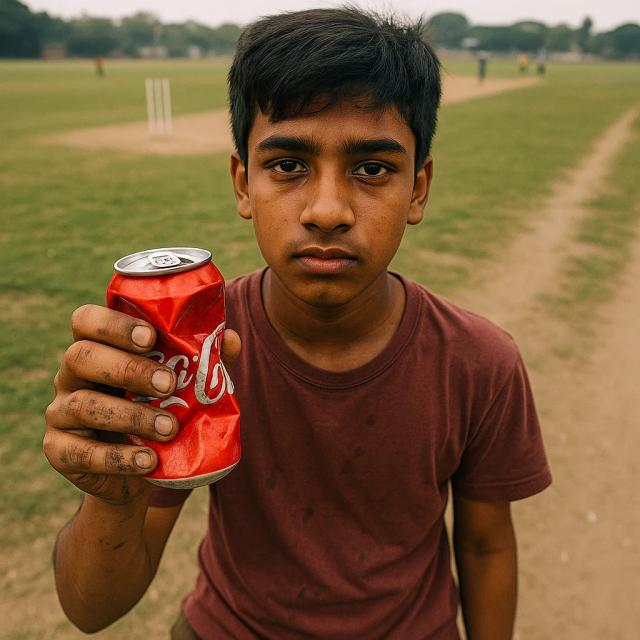aluminum: (102, 243, 242, 484)
